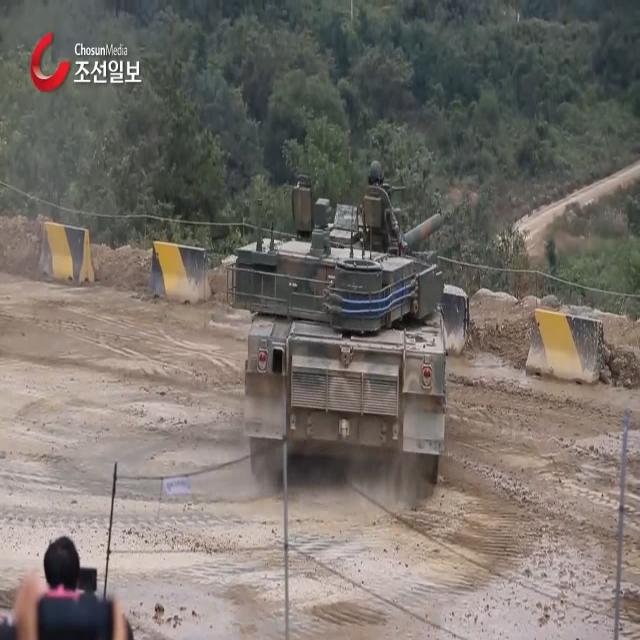korea tank: (225, 159, 446, 488)
